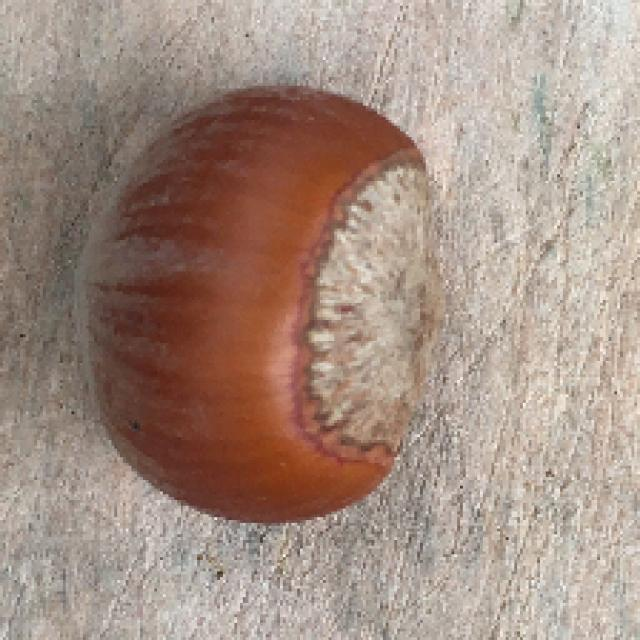QualityHazelnut: (70, 83, 447, 526)
